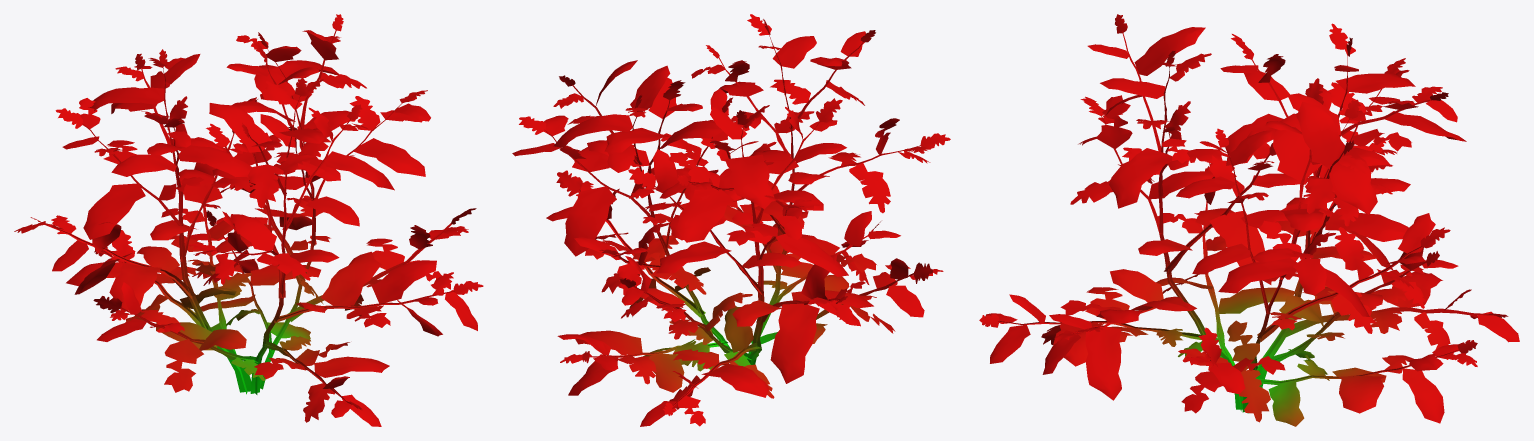
The model's file is Black Locust_LOD2_Var10.fbx.
3 renders of one model, left to right at view 1: azimuth 30°, elevation 25°; view 2: azimuth 150°, elevation 25°; view 3: azimuth 270°, elevation 25°, orthographic. The views are drawn at different scales.
Parts seen in each view (by area): view 1: _edpl_Var10_LOD2; view 2: _edpl_Var10_LOD2; view 3: _edpl_Var10_LOD2.
Boxes of the visible parts, <box> form: _edpl_Var10_LOD2: <box>14,14,483,426</box>; _edpl_Var10_LOD2: <box>512,14,950,426</box>; _edpl_Var10_LOD2: <box>979,14,1519,426</box>.
Size of the model in its own units: 136 by 116 by 153.
